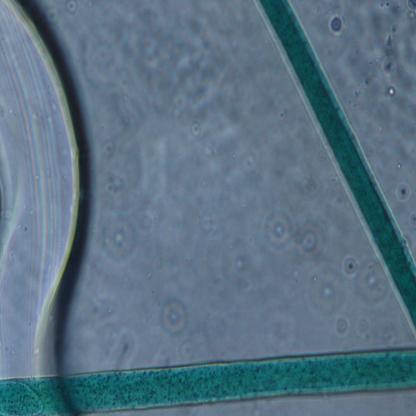Air bubble: (0, 1, 90, 375)
Background material: (146, 34, 242, 140), (82, 23, 144, 119), (92, 126, 146, 206), (85, 293, 136, 370), (265, 204, 327, 261), (376, 0, 416, 85), (300, 261, 348, 320), (216, 228, 260, 292), (101, 212, 139, 264), (351, 256, 384, 310), (161, 297, 190, 338), (329, 16, 350, 47), (339, 251, 360, 281), (45, 1, 62, 30), (397, 178, 414, 202), (334, 314, 350, 339), (63, 1, 81, 16)
Microfibre: (257, 1, 416, 336), (0, 344, 416, 416)
